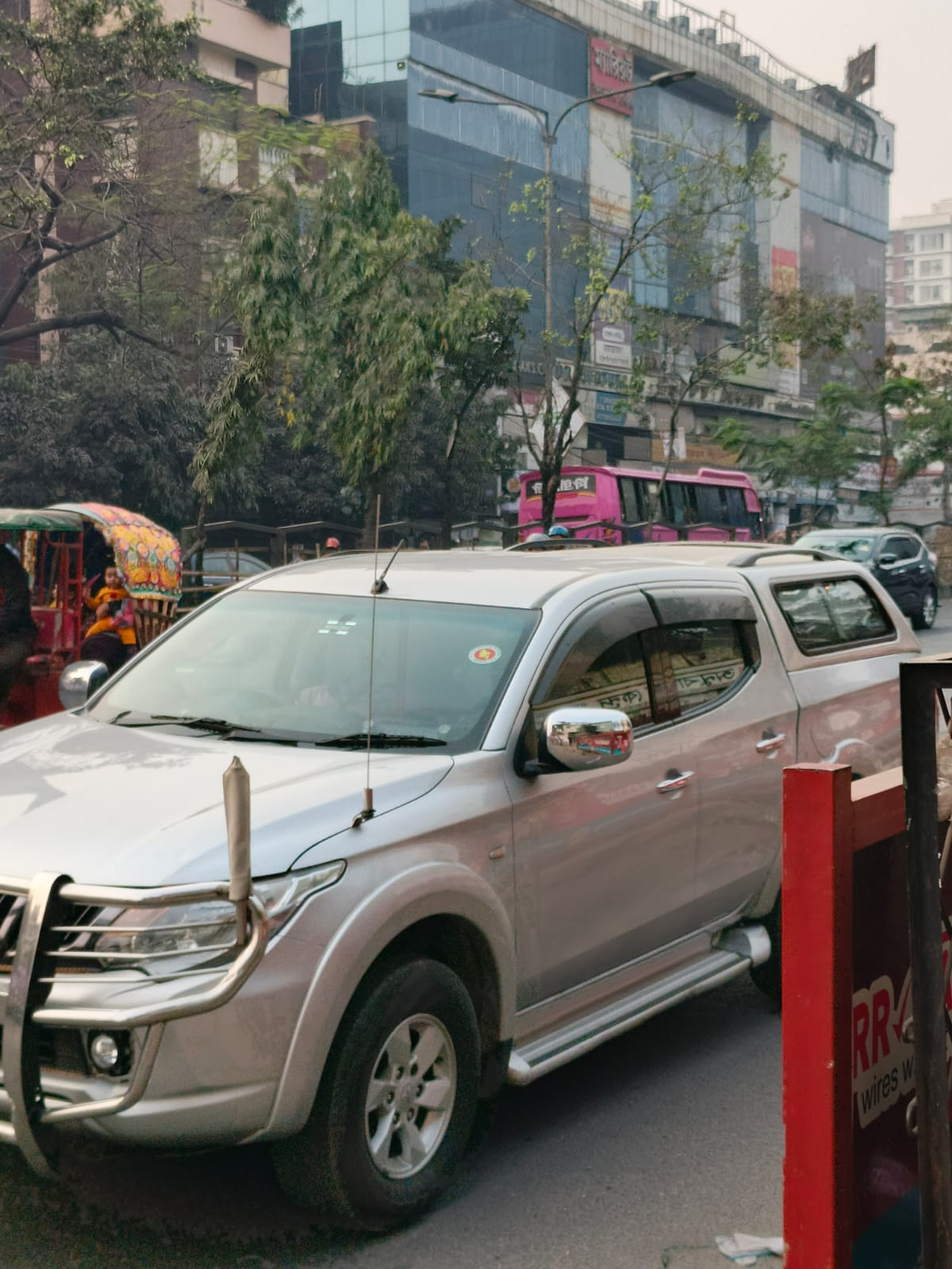Bus: (500, 418, 791, 583)
auto-ricksaw: (11, 468, 182, 777)
private car: (0, 450, 935, 1198), (783, 490, 952, 640), (180, 516, 330, 629)
